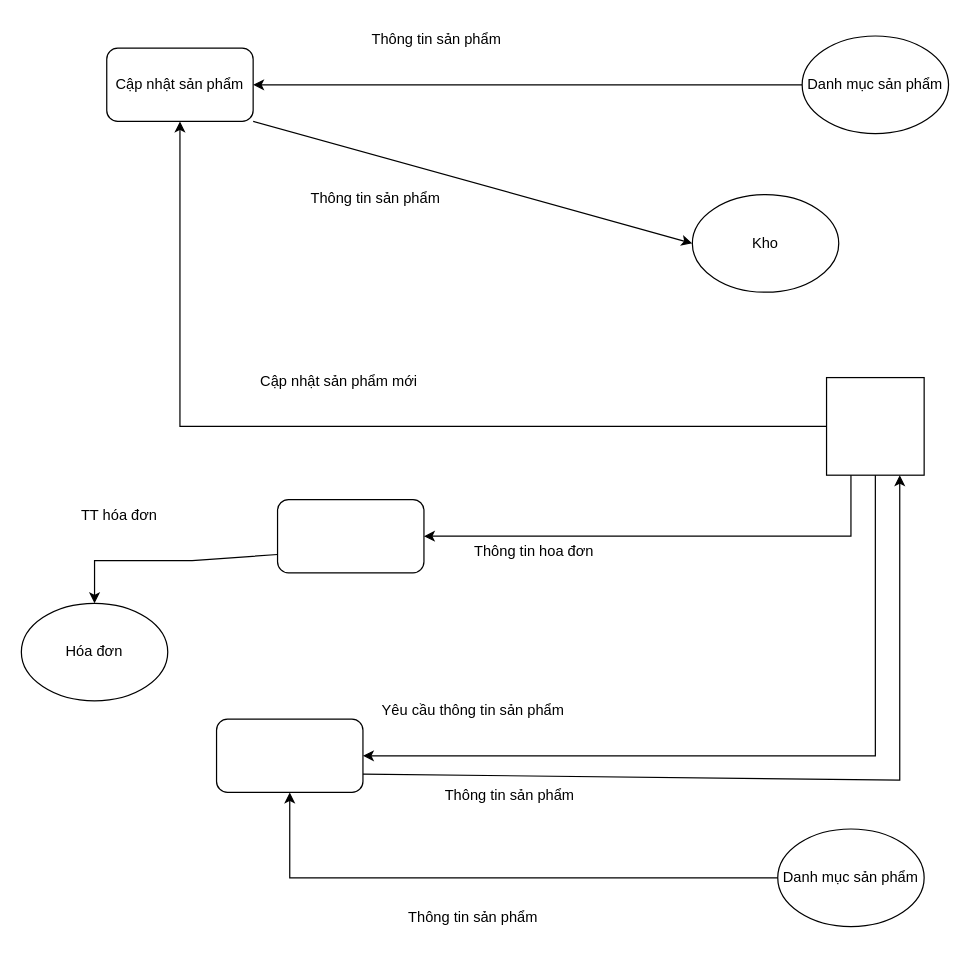
Image size: 970x956. Some labels were removed from this diagram. Each missing label, with the centre of its shape:
Cập nhật hóa đơn: the point at 350,535
Cập nhật số lượng: the point at 289,755
Nhà quản trị: the point at 874,425
